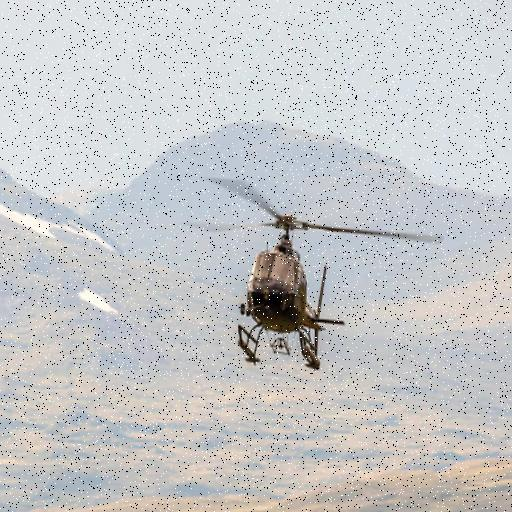helicopter: (187, 176, 450, 375)
